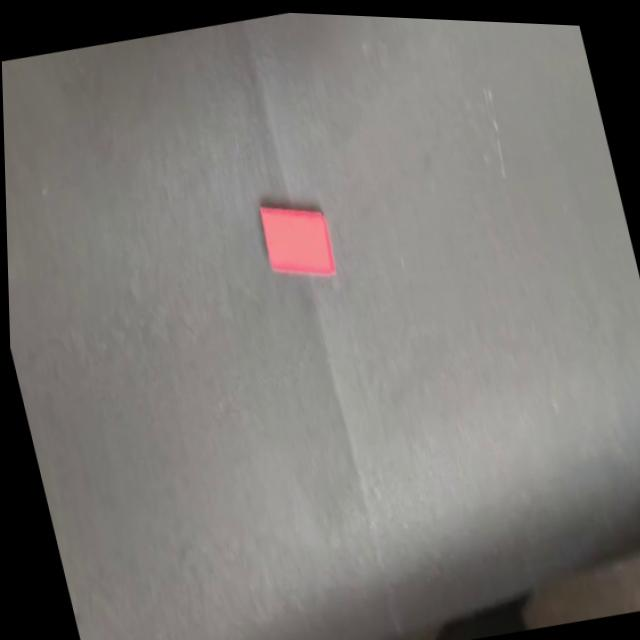red block: (253, 192, 338, 287)
